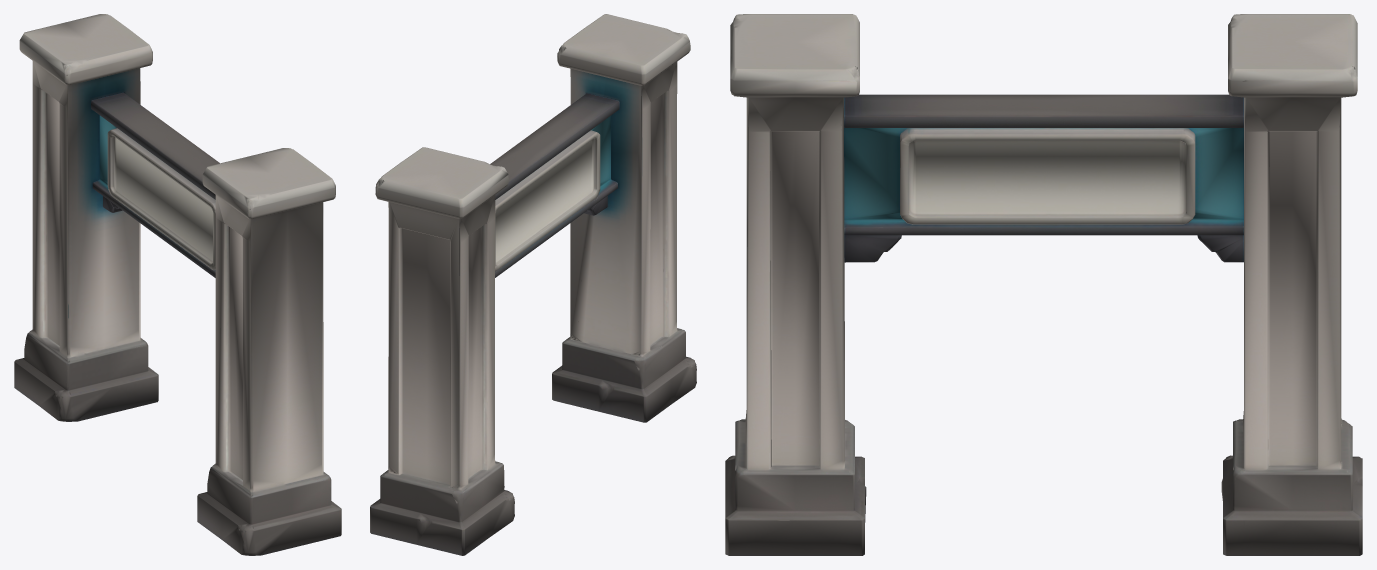
The model's file is gate-arch.glb.
3 renders of one model, left to right at view 1: azimuth 30°, elevation 25°; view 2: azimuth 150°, elevation 25°; view 3: azimuth 270°, elevation 25°, orthographic. The views are drawn at different scales.
Parts seen in each view (by area): view 1: tripo_node_kodyurd-model-19____________________; view 2: tripo_node_kodyurd-model-19____________________; view 3: tripo_node_kodyurd-model-19____________________.
Boxes of the visible parts, left/top/right/bottom form: tripo_node_kodyurd-model-19____________________: left=14, top=14, right=341, bottom=555; tripo_node_kodyurd-model-19____________________: left=370, top=14, right=696, bottom=555; tripo_node_kodyurd-model-19____________________: left=725, top=14, right=1362, bottom=555.
Bounding box in the file's own units: 0.2402 × 0.834 × 0.998.
Materials: 1 (1 with a texture image).
